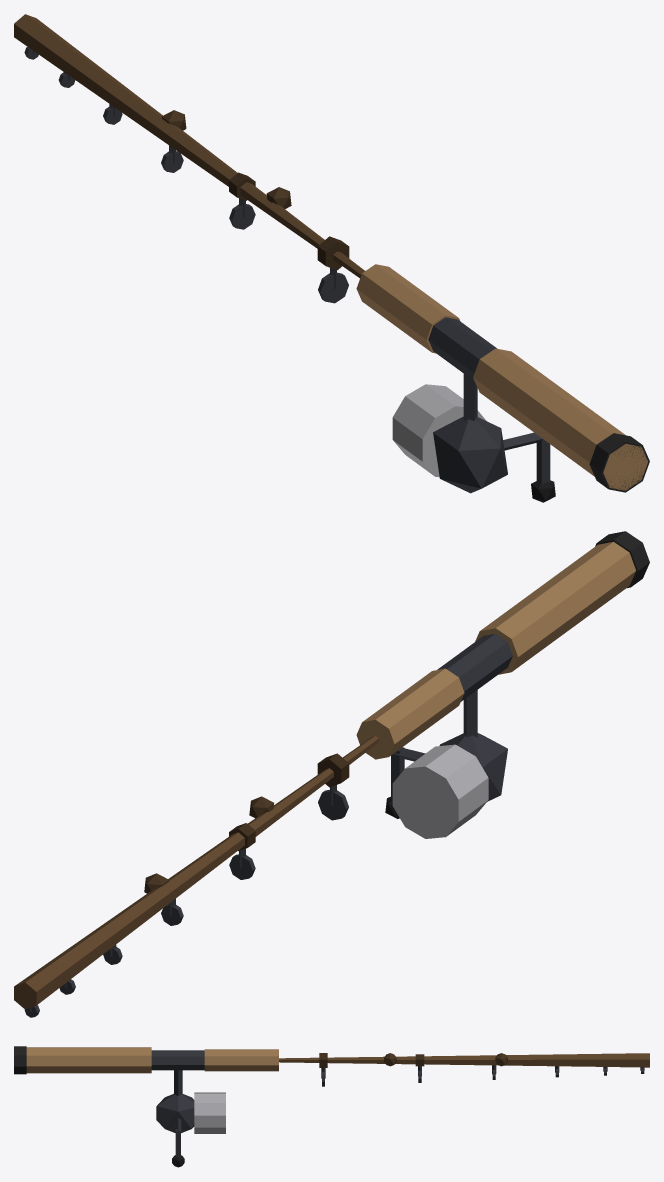
File: WillowRod.glb
3 renders of one model, top to bottom at view 1: azimuth 30°, elevation 25°; view 2: azimuth 150°, elevation 25°; view 3: azimuth 270°, elevation 25°, orthographic. The views are drawn at different scales.
Visible parts, largest first — view 1: WillowRod; view 2: WillowRod; view 3: WillowRod.
Boxes of the visible parts, x1=… form: WillowRod: x1=14, y1=14, x2=649, y2=502; WillowRod: x1=14, y1=531, x2=649, y2=1017; WillowRod: x1=14, y1=1046, x2=649, y2=1167.
Bounding box in the file's own units: 0.6728 × 1.06 × 6.
